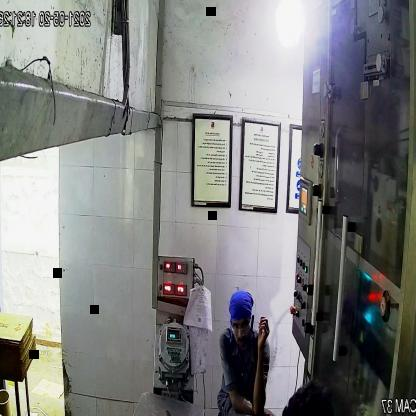goggles: (228, 315, 255, 338)
